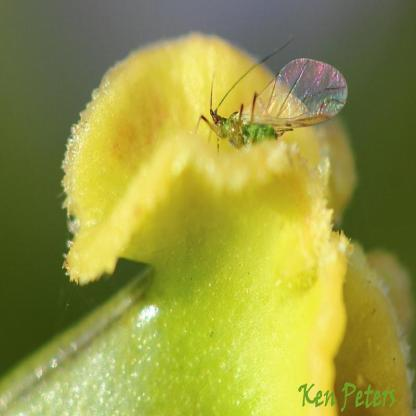aphid: (196, 46, 350, 154)
